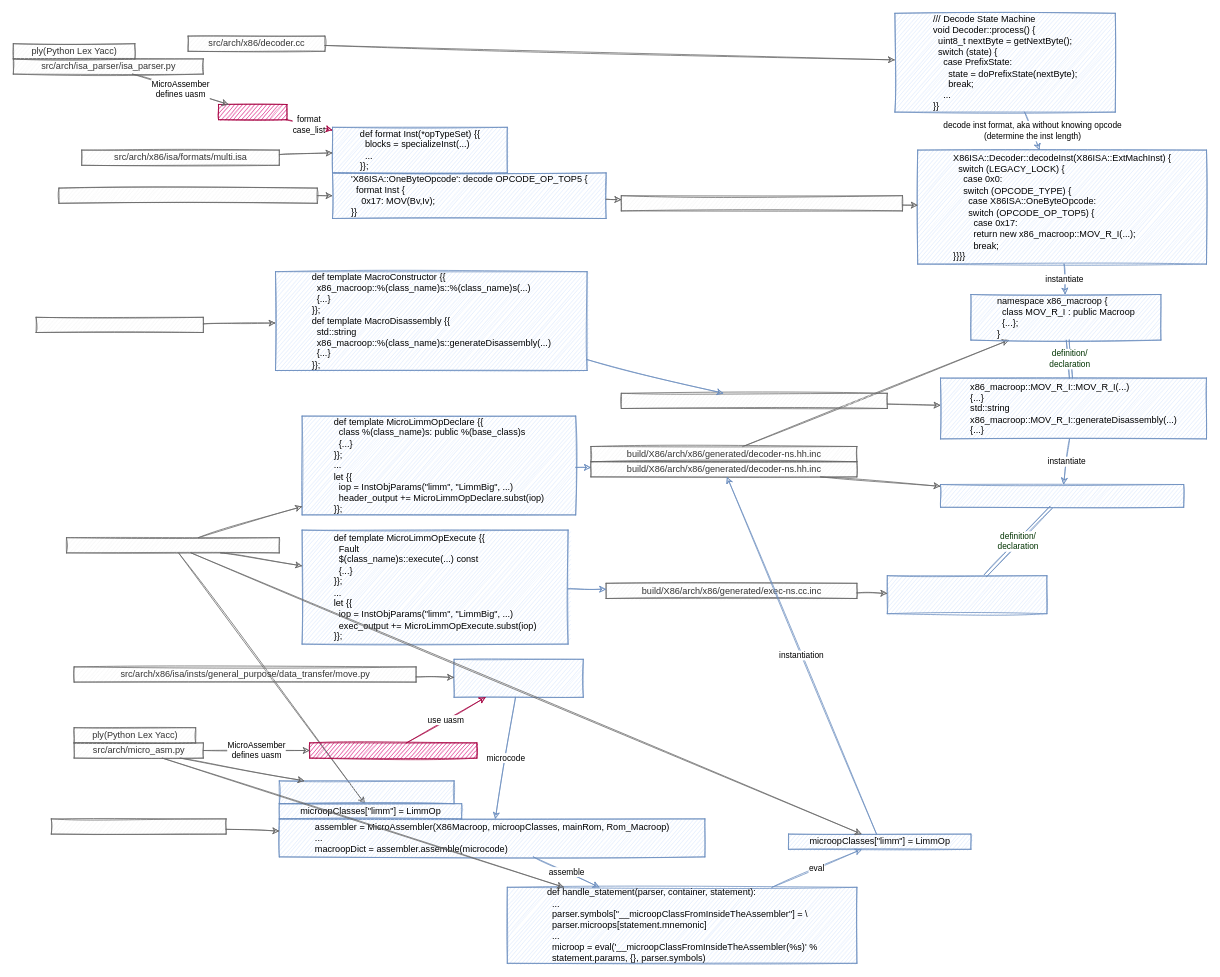
Image size: 1220x977. Some labels were removed from this diagram. Each missing label, with the centre of its shape:
build/X86/arch/x86/generated/decode-method.cc.inc: (761,203)
build/X86/arch/x86/generated/decoder-ns.cc.inc: (754,400)
class LimmBig : public X86ISA::RegOpT<...> {...}: (1062,495)
class MicroAssembler(object): ...: (366,792)
def macroop MOV_R_I { limm reg, imm };: (518,678)
Fault LimmBig::execute(...) const {...}: (967,594)
isa (a DSL): (252,112)
src/arch/x86/isa/decoder/one_byte_opcodes.isa: (187,195)
src/arch/x86/isa/macroop.isa: (119,324)
src/arch/x86/isa/microasm.isa: (138,826)
src/arch/x86/isa/microops/limmop.isa: (172,545)
uasm (a DSL, I name it uasm): (393,750)
